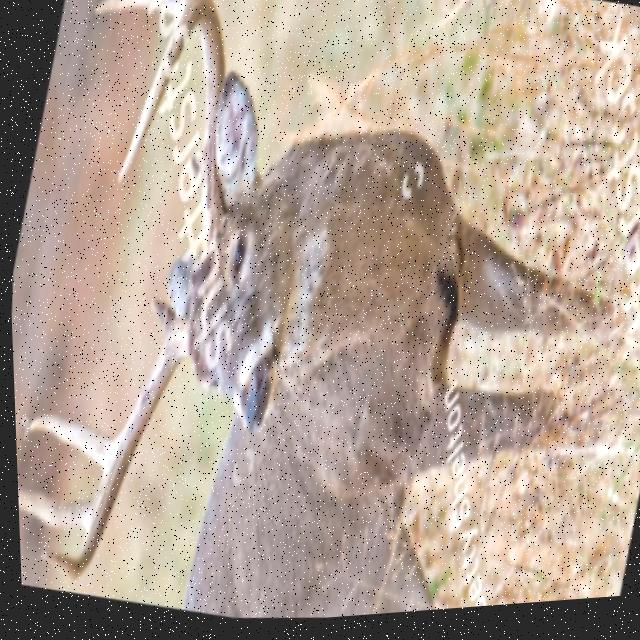L-F: (116, 0, 225, 241)
R-F: (35, 316, 187, 580)
R-G1: (148, 298, 175, 336)
R-G2: (26, 412, 113, 470)
R-G3: (14, 484, 92, 530)
